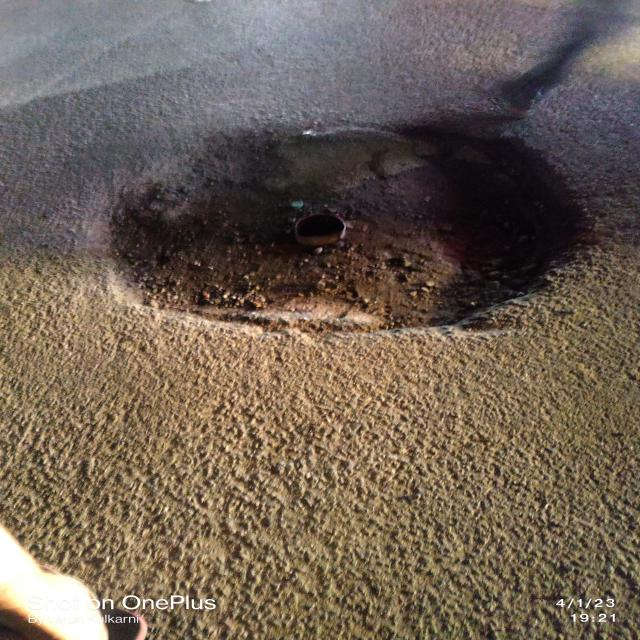potholes: (79, 100, 615, 341)
